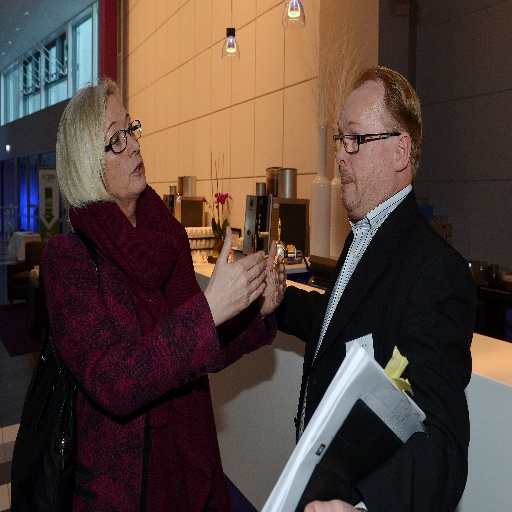hand: (204, 223, 268, 325), (249, 242, 291, 314), (303, 499, 359, 511)
